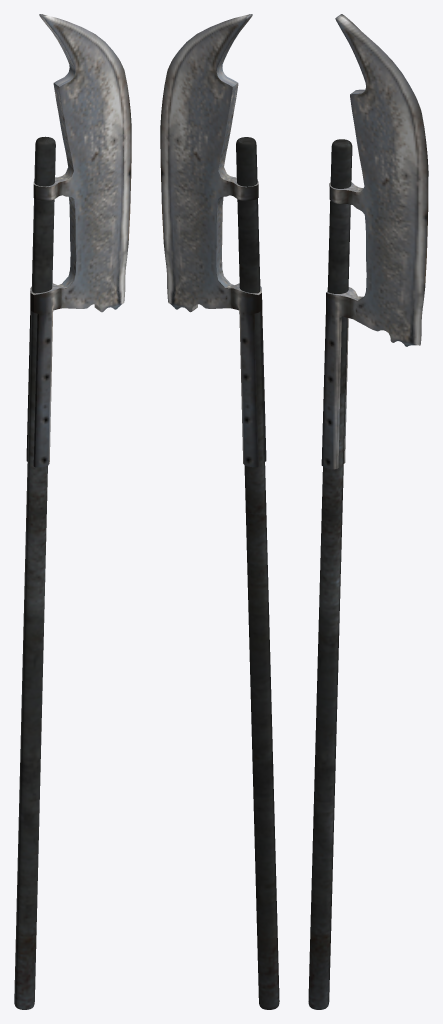
The model's file is halbard.obj.
The picture shows the model from 3 angles, left to right: view 1: azimuth 30°, elevation 25°; view 2: azimuth 150°, elevation 25°; view 3: azimuth 330°, elevation 25°; orthographic projection.
Visible parts, largest first — view 1: Box01; view 2: Box01; view 3: Box01.
Boxes of the visible parts, box(x1,y1,x2,y2) form: Box01: box(14, 14, 131, 1009); Box01: box(160, 14, 279, 1009); Box01: box(308, 14, 428, 1009).
Bounding box in the file's own units: 14.64 × 118 × 2.64.
